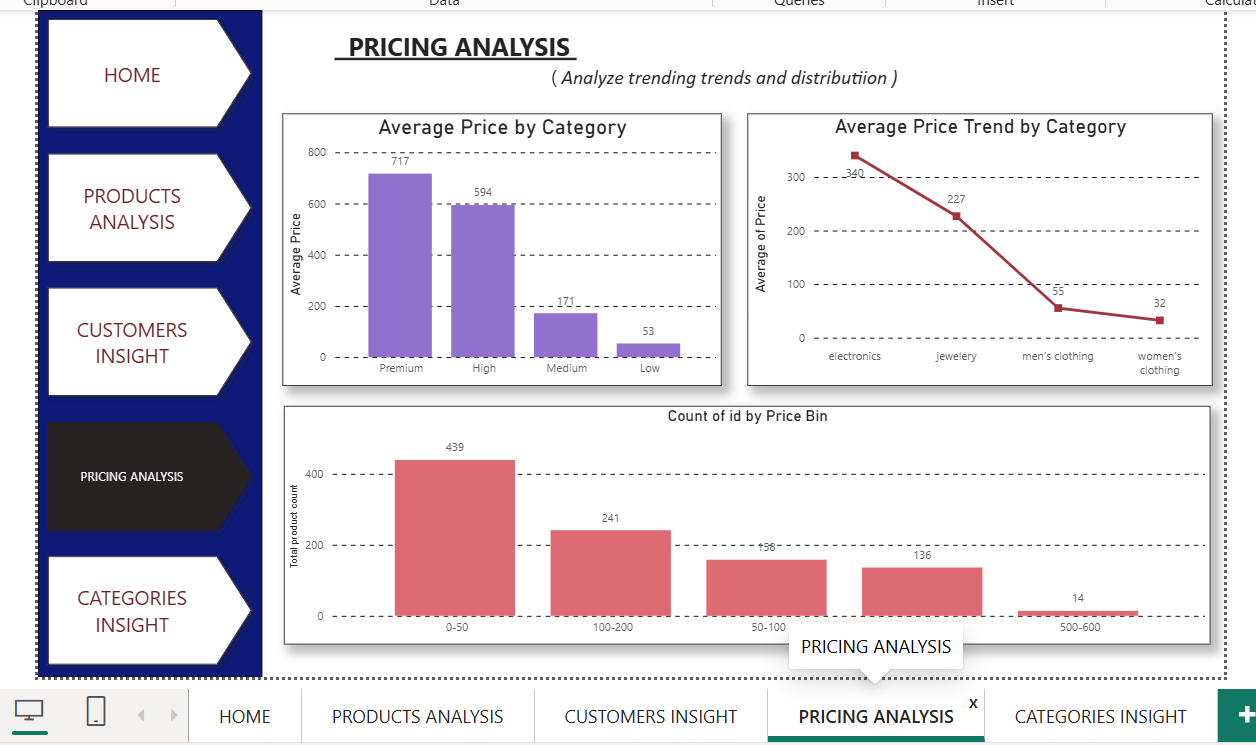

What the dashboard file says about the page in this screenshot:
{"tool":"powerbi","page":{"name":"PRICING ANALYSIS","canvas":[1280,720],"ordinal":3},"visuals":[{"type":"columnChart","title":"Average  Price by Category","fields":{"Category":["cleaned data.Price Category"],"Y":["Avg(cleaned data.Price)"]},"box":[264,112,474,294],"z":0},{"type":"lineChart","title":"Average Price Trend by Category","fields":{"Y":["Avg(cleaned data.Price)"],"Category":["cleaned data.Category"]},"box":[766,112,502,294],"z":1000},{"type":"clusteredColumnChart","fields":{"Y":["CountNonNull(cleaned data.id)"],"Category":["cleaned data.Price Bin"]},"box":[265,427.5,1000,257.5],"z":2000},{"type":"pageNavigator","title":"s","box":[0,0,241.7,720],"z":3000},{"type":"textbox","box":[264,16,920,82],"z":4000}]}

Visuals, with their boxes on the page's 1280x720 design canvas (x1, y1, x2, y2). These are canvas units, not pixel positions in the 1256x745 screenshot, which may show the page scaled, cropped or inside an application window:
"Average  Price by Category" columnChart: bbox(264, 112, 738, 406)
"Average Price Trend by Category" lineChart: bbox(766, 112, 1268, 406)
clusteredColumnChart - CountNonNull(cleaned data.id) x cleaned data.Price Bin: bbox(265, 428, 1265, 685)
"s" pageNavigator: bbox(0, 0, 242, 720)
textbox: bbox(264, 16, 1184, 98)
